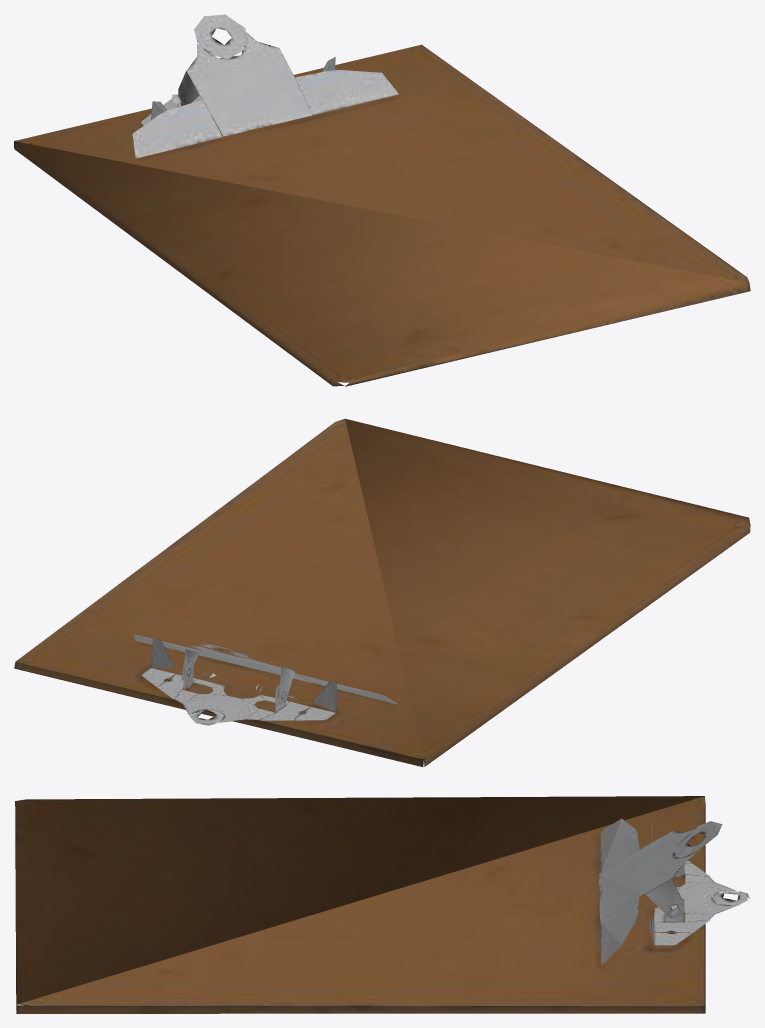
The model's file is clipboard.glb.
The picture shows the model from 3 angles, top to bottom: view 1: azimuth 30°, elevation 25°; view 2: azimuth 150°, elevation 25°; view 3: azimuth 270°, elevation 25°; orthographic projection. The views are drawn at different scales.
Visible parts, largest first — view 1: clipboard; view 2: clipboard; view 3: clipboard.
Part boxes in pixels (<box>): clipboard: <box>14,14,750,386</box>; clipboard: <box>14,418,750,766</box>; clipboard: <box>15,796,749,1013</box>.
Bounding box in the file's own units: 0.2279 × 0.0418 × 0.3361.
Materials: 1 (1 with a texture image).
